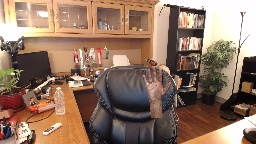Mano_aperta: (140, 65, 171, 103)
